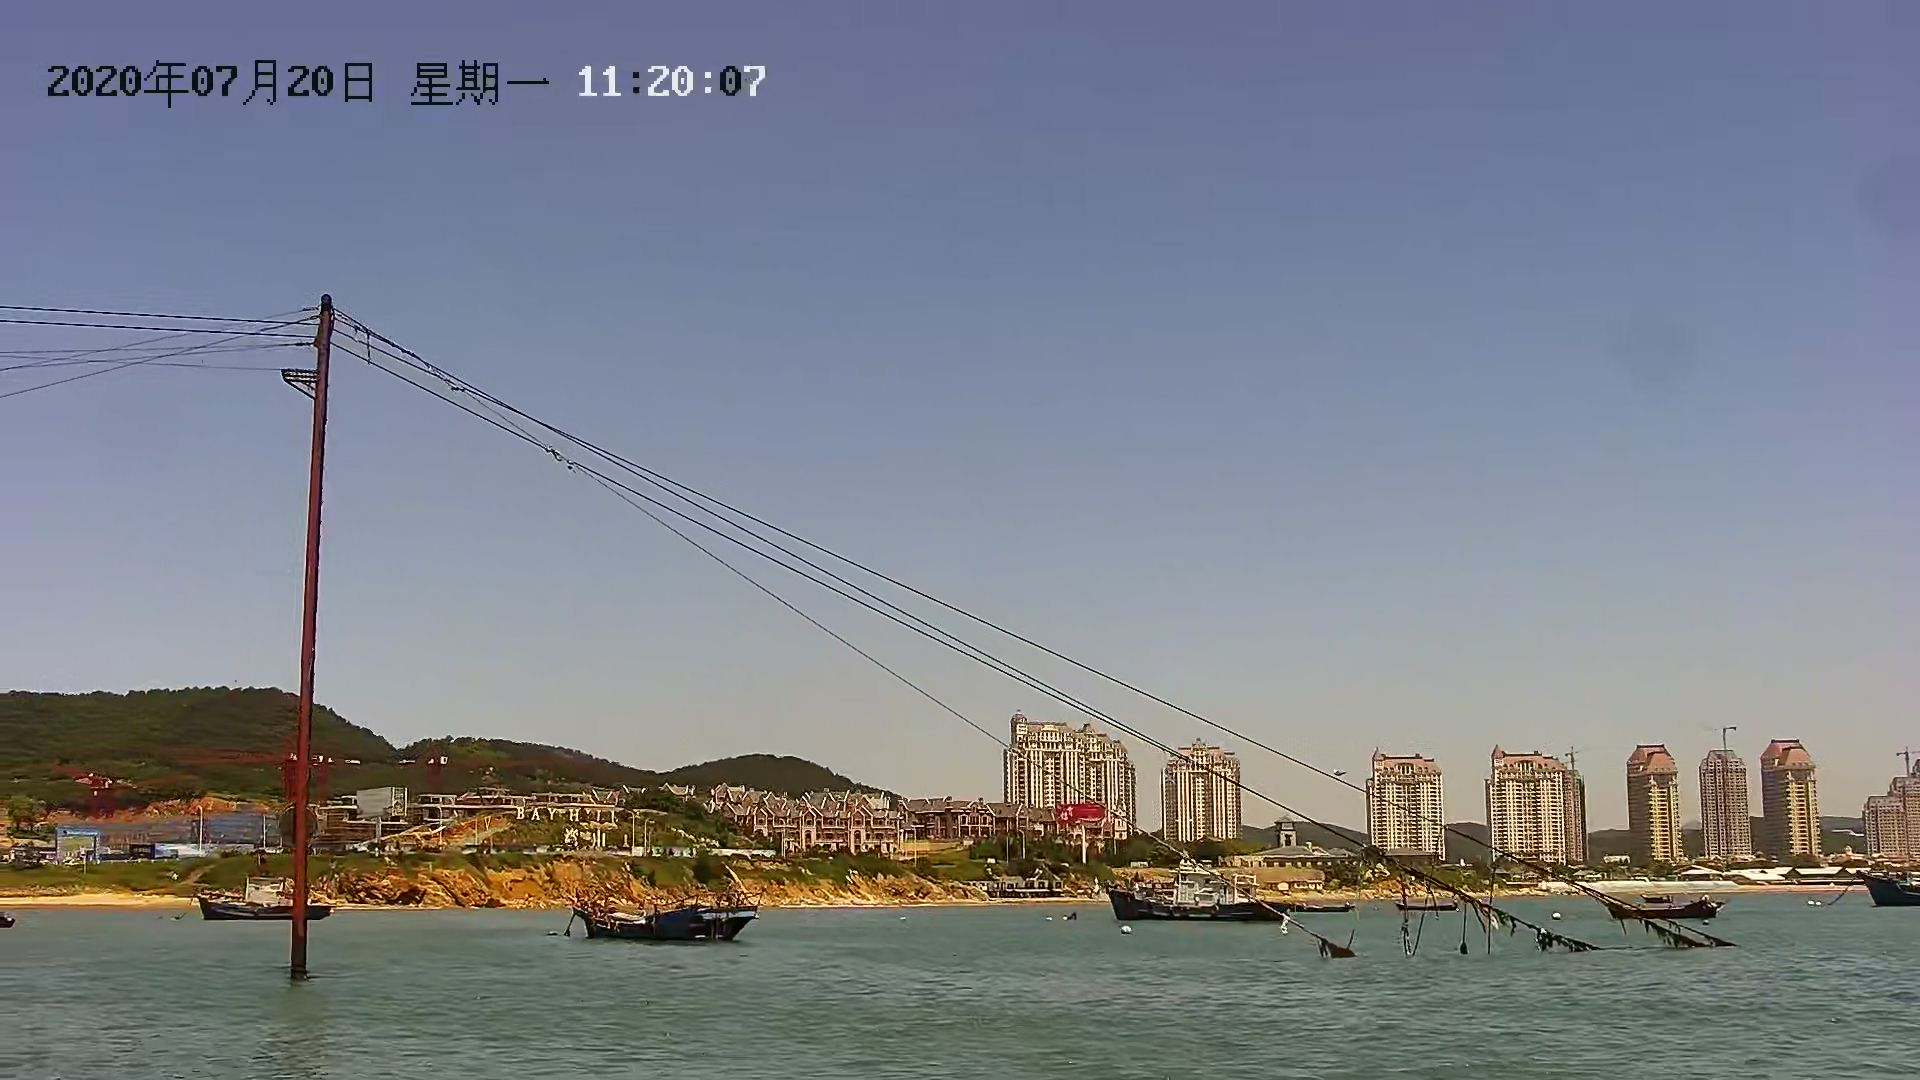boat: (1112, 874, 1307, 934), (564, 893, 773, 945), (199, 887, 334, 924), (1611, 887, 1722, 920)
mast: (280, 294, 335, 989)
